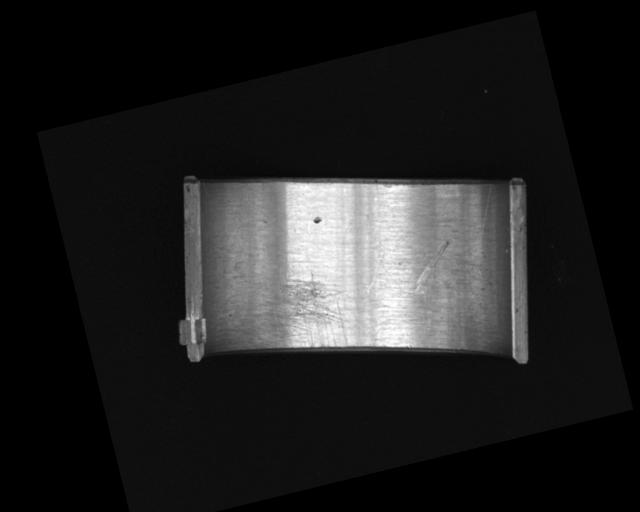bruise: (312, 215, 324, 225)
nick: (339, 181, 402, 295), (453, 181, 510, 269), (406, 239, 459, 289), (412, 284, 435, 338)
scratch: (234, 264, 359, 368)
